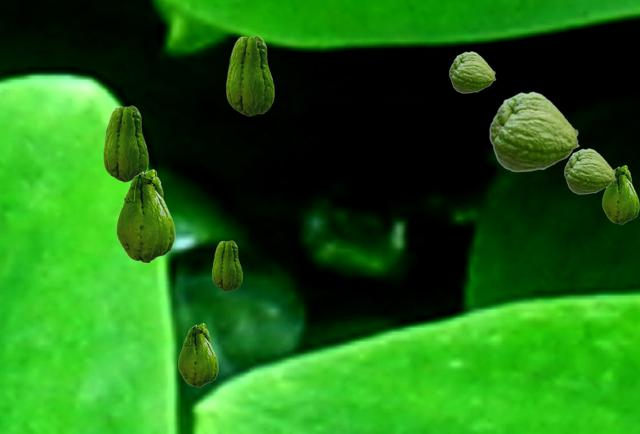sayote: (489, 91, 579, 171), (116, 169, 174, 262), (226, 35, 273, 115), (103, 105, 147, 181), (178, 323, 217, 386), (564, 148, 615, 193), (602, 165, 638, 223), (449, 51, 495, 92), (212, 240, 241, 290)
